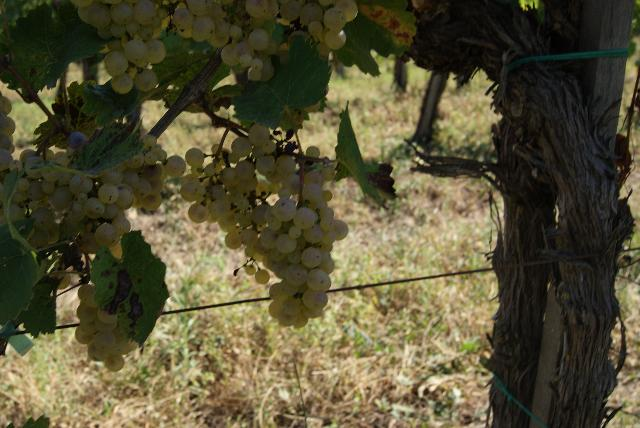grapes: (226, 170, 348, 328), (180, 136, 261, 231)
